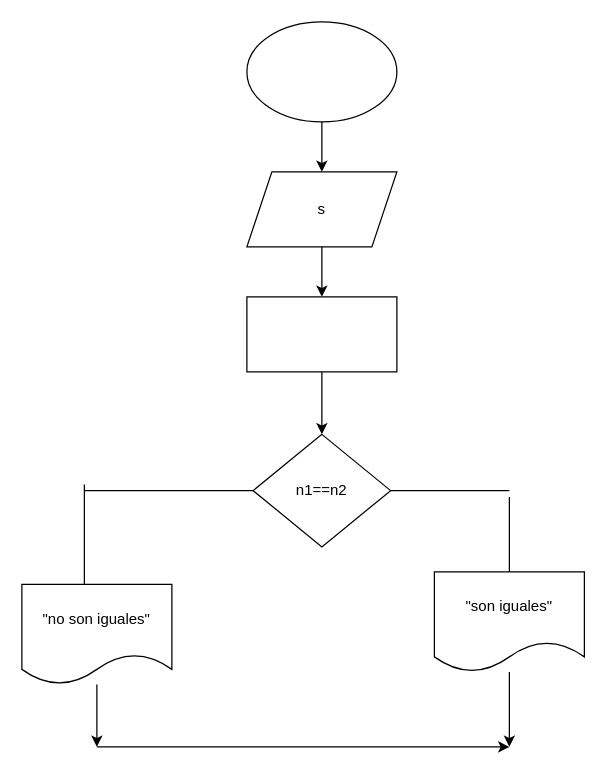
Image size: 606x779. Some labels were removed from this diagram. Each missing label, with the centre of its shape:
"inicio" belongs at point (321, 71).
"n1=" belongs at point (321, 334).
